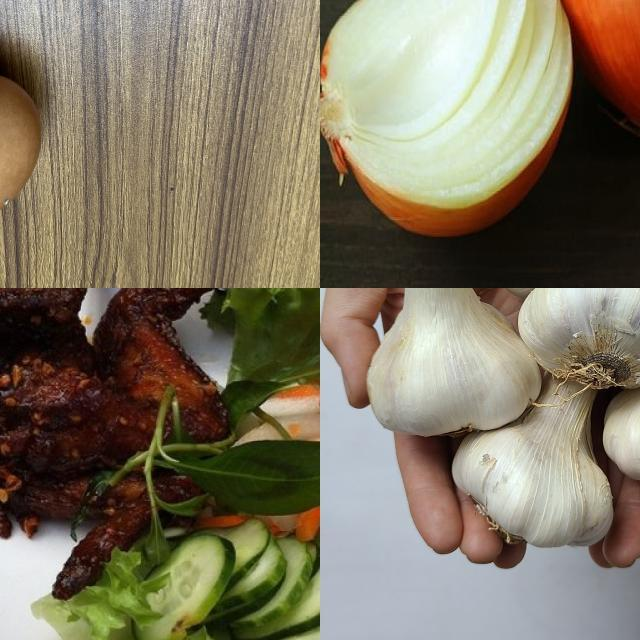cucumber: (230, 525, 321, 640), (140, 541, 233, 640)
egg: (1, 69, 53, 236)
garlic: (453, 365, 621, 557), (367, 289, 556, 441), (517, 289, 640, 395)
onion: (321, 1, 576, 247)
